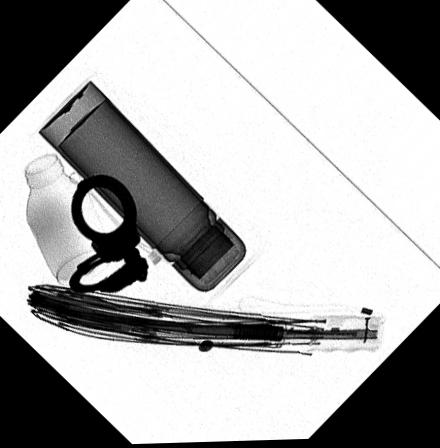HandCuffs: (67, 174, 149, 294)
